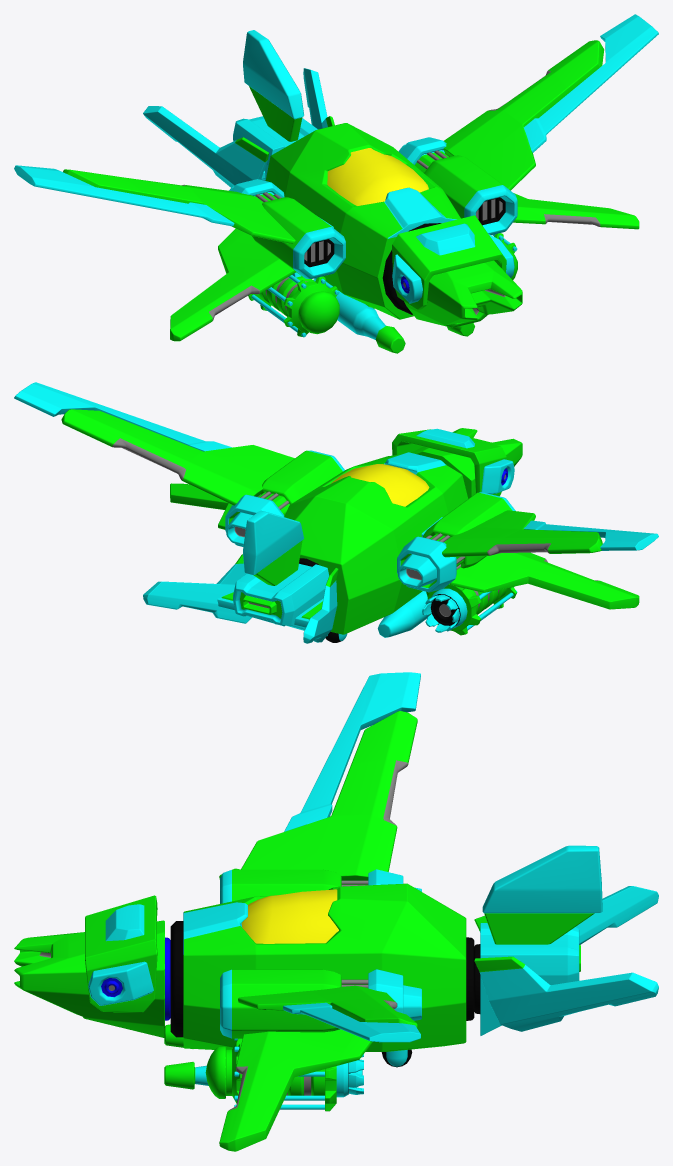
The picture shows the model from 3 angles, top to bottom: view 1: azimuth 30°, elevation 25°; view 2: azimuth 150°, elevation 25°; view 3: azimuth 270°, elevation 25°; orthographic projection. The views are drawn at different scales.
Parts seen in each view (by area): view 1: Wing15_L, Body15_A, Wing15_R, Propeller15, Fin15, Spurt15_R, Body15_C; view 2: Body15_A, Wing15_R, Wing15_L, Fin15, Propeller15, Spurt15_R, Body15_C; view 3: Body15_A, Fin15, Wing15_R, Wing15_L, Propeller15, Spurt15_L, Body15_D.
Boxes of the visible parts, bbox=[...] form: Wing15_L: bbox=[398, 14, 658, 235]; Body15_A: bbox=[265, 123, 460, 319]; Wing15_R: bbox=[14, 165, 345, 341]; Propeller15: bbox=[392, 215, 522, 327]; Fin15: bbox=[143, 30, 334, 187]; Spurt15_R: bbox=[248, 272, 339, 337]; Body15_C: bbox=[313, 279, 405, 353]; Body15_A: bbox=[284, 452, 468, 634]; Wing15_R: bbox=[397, 492, 658, 609]; Wing15_L: bbox=[14, 382, 344, 546]; Fin15: bbox=[143, 510, 338, 643]; Propeller15: bbox=[392, 428, 522, 498]; Spurt15_R: bbox=[422, 584, 517, 635]; Body15_C: bbox=[377, 591, 429, 637]; Body15_A: bbox=[170, 883, 474, 1051]; Fin15: bbox=[474, 845, 658, 1035]; Wing15_R: bbox=[219, 672, 421, 903]; Wing15_L: bbox=[219, 969, 421, 1151]; Propeller15: bbox=[14, 895, 170, 1037]; Spurt15_L: bbox=[205, 1038, 363, 1111]; Body15_D: bbox=[164, 1062, 362, 1089].
Bounding box in the file's own units: 25.41 × 19.04 × 7.31.
